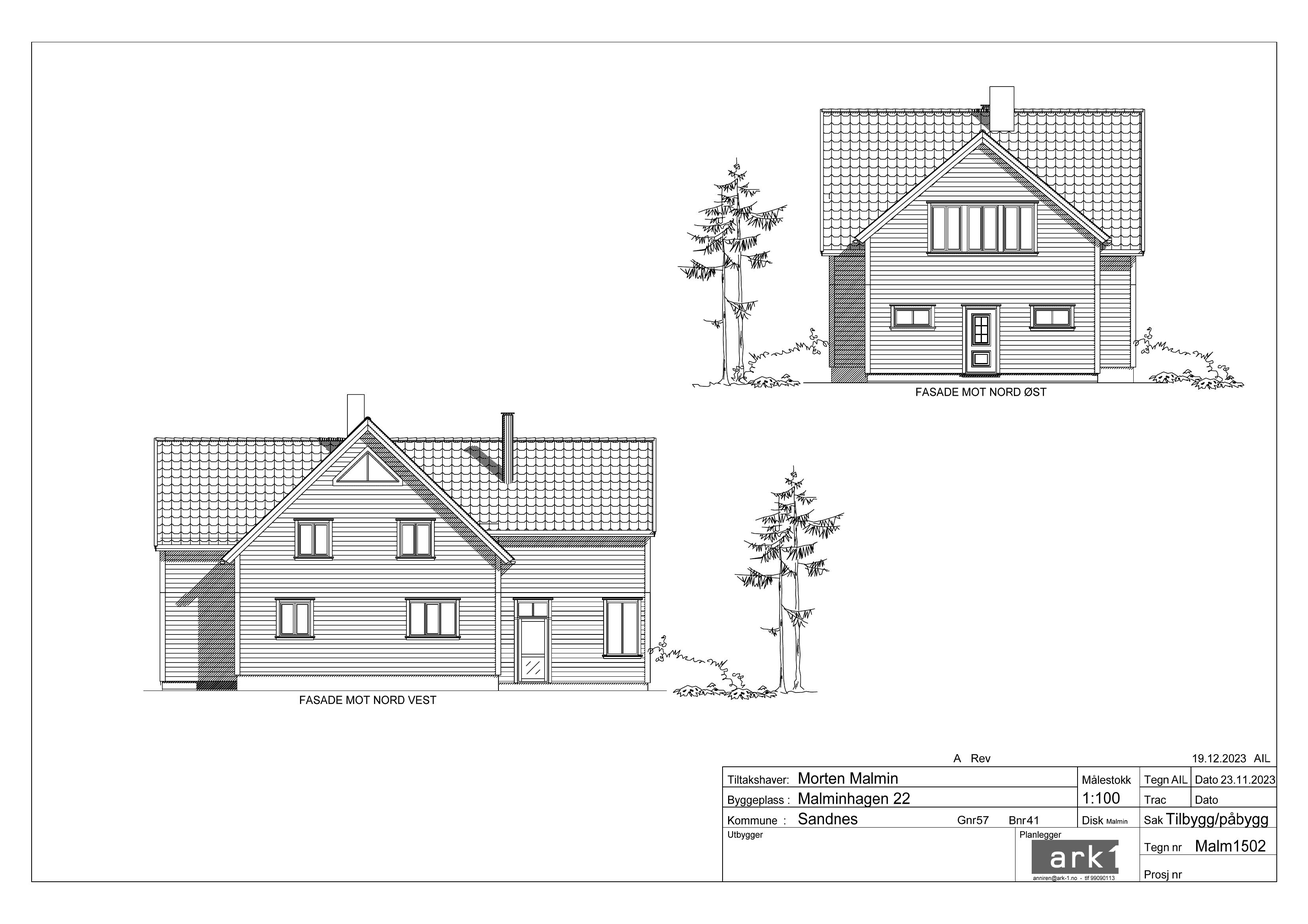fasade: (151, 392, 660, 694), (817, 83, 1150, 386)
